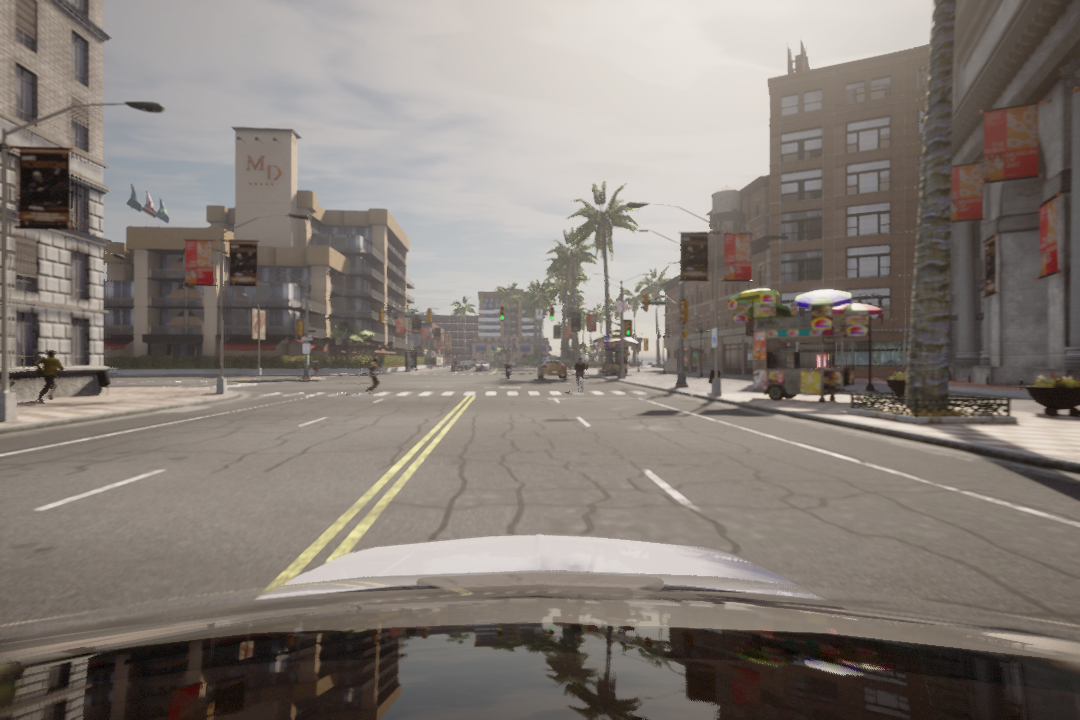TrafficLight: (679, 301, 691, 324), (623, 317, 632, 340), (499, 304, 505, 324), (547, 306, 554, 321)
walkside: (248, 389, 657, 398)
